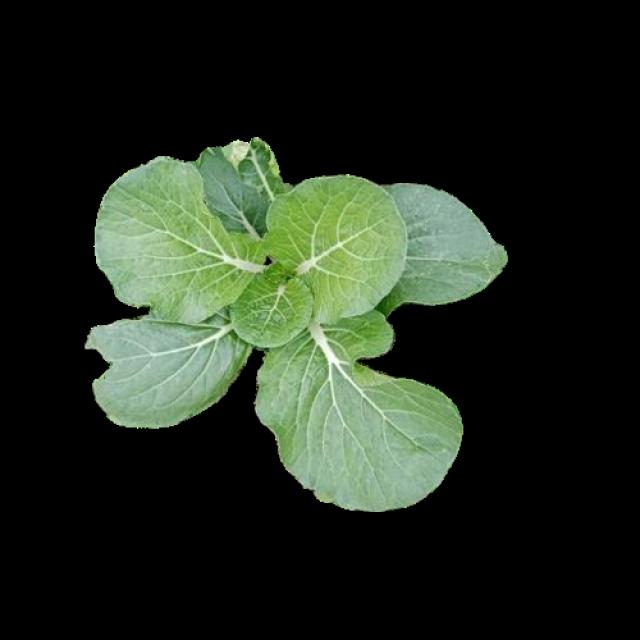mature: (84, 134, 504, 508)
unhealthy: (87, 310, 260, 428), (187, 130, 316, 240)
